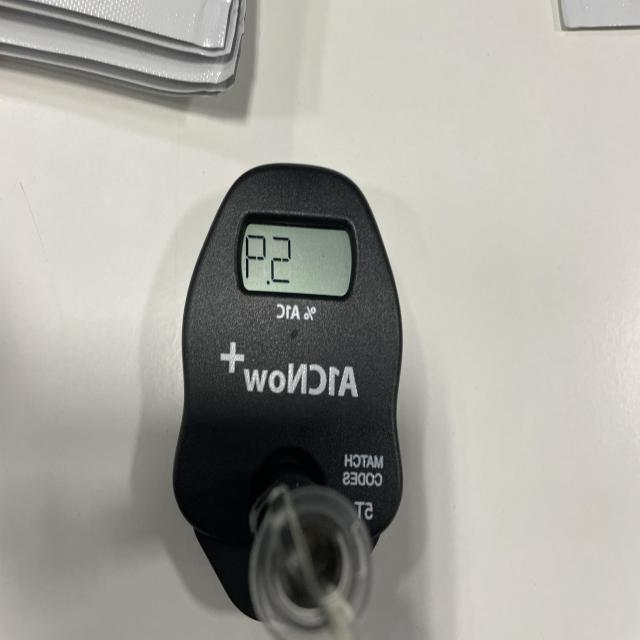hba1c: (171, 164, 405, 630)
